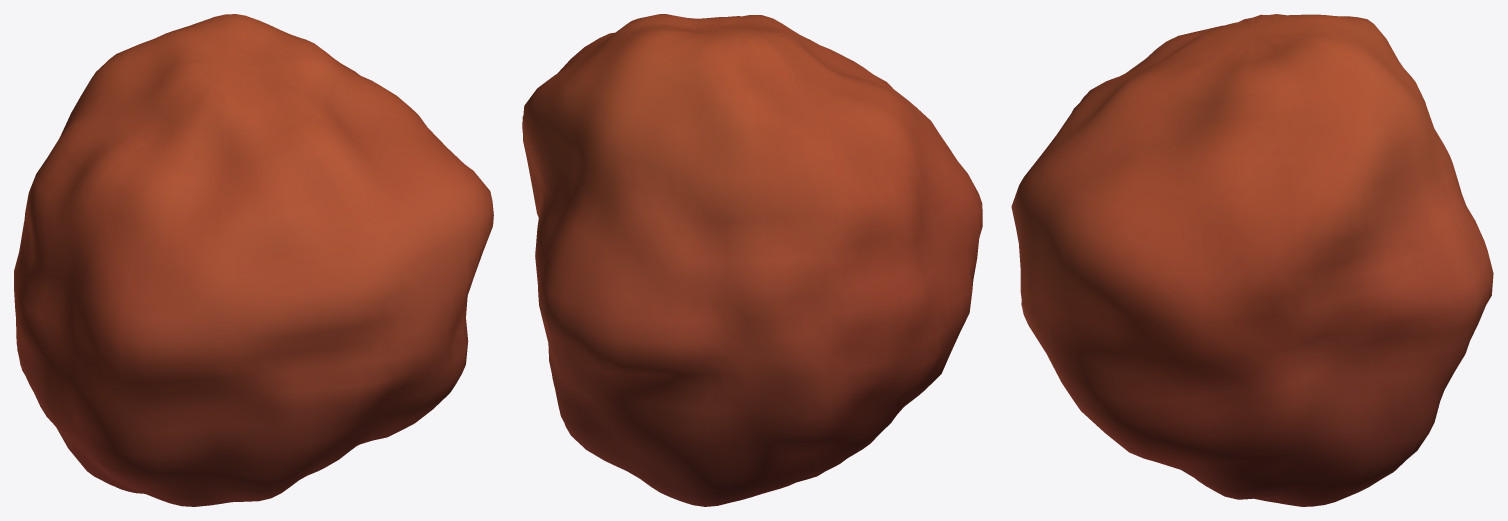
File: MeatBall.fbx
The picture shows the model from 3 angles, left to right: view 1: azimuth 30°, elevation 25°; view 2: azimuth 150°, elevation 25°; view 3: azimuth 270°, elevation 25°; orthographic projection. The views are drawn at different scales.
Parts seen in each view (by area): view 1: MeatBall_R; view 2: MeatBall_R; view 3: MeatBall_R.
Boxes of the visible parts, <box> form: MeatBall_R: <box>14,14,493,506</box>; MeatBall_R: <box>522,14,982,506</box>; MeatBall_R: <box>1011,14,1493,506</box>.
Bounding box in the file's own units: 137 × 141 × 135.
